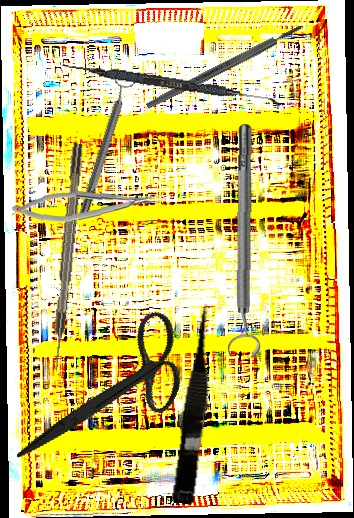Fixation Ring: (71, 71, 139, 218), (224, 123, 266, 359)
Hook Surgical: (49, 142, 85, 372)
Iris Scissors: (16, 283, 203, 504)
Micro Scissor: (171, 302, 222, 506)
Needle Holder: (10, 188, 163, 224)
Scalpel Handle: (144, 22, 304, 111)
Spatula Surgical: (61, 61, 283, 106)
